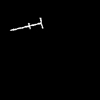double_crochet: (12, 18, 42, 29)
